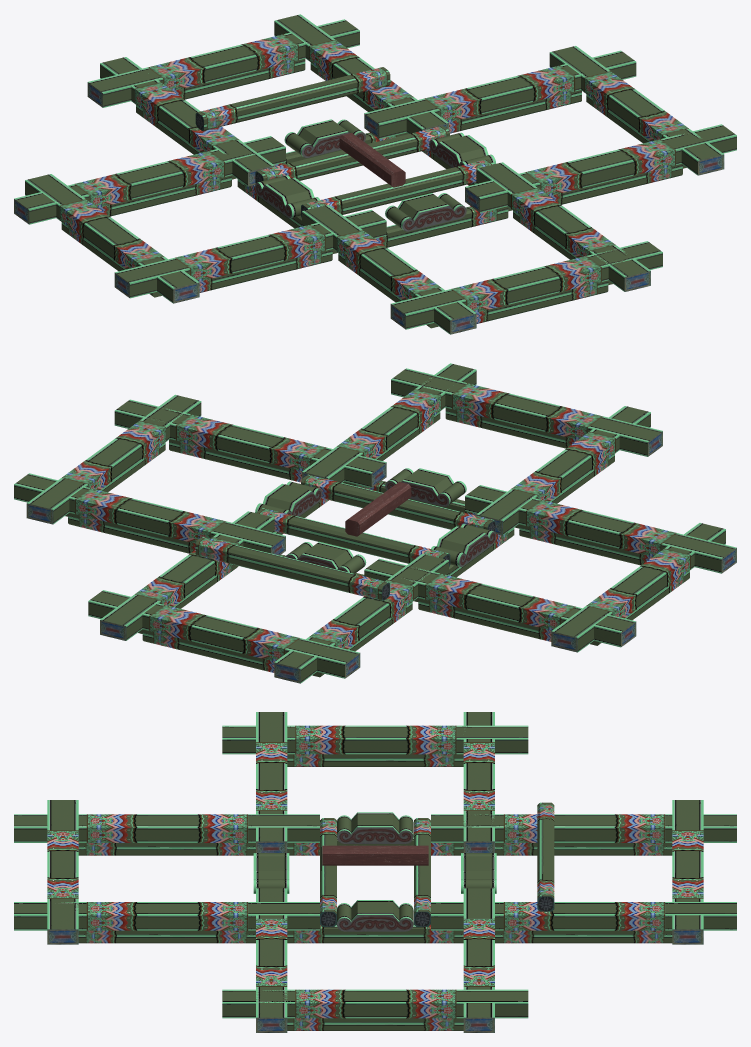
Rendered from SM_Song_Jong_Bang.fbx.
3 views of the same model, one above another, from view 1: azimuth 30°, elevation 25°; view 2: azimuth 150°, elevation 25°; view 3: azimuth 270°, elevation 25° (orthographic). The views are drawn at different scales.
Visible parts, largest first — view 1: SM_Song_Jong_Bang; view 2: SM_Song_Jong_Bang; view 3: SM_Song_Jong_Bang.
Boxes of the visible parts, x1,y1,x2,y2 form: SM_Song_Jong_Bang: (14,14,736,334); SM_Song_Jong_Bang: (14,363,736,683); SM_Song_Jong_Bang: (14,712,736,1032).
Bounding box in the file's own units: 851 × 62.71 × 851.
